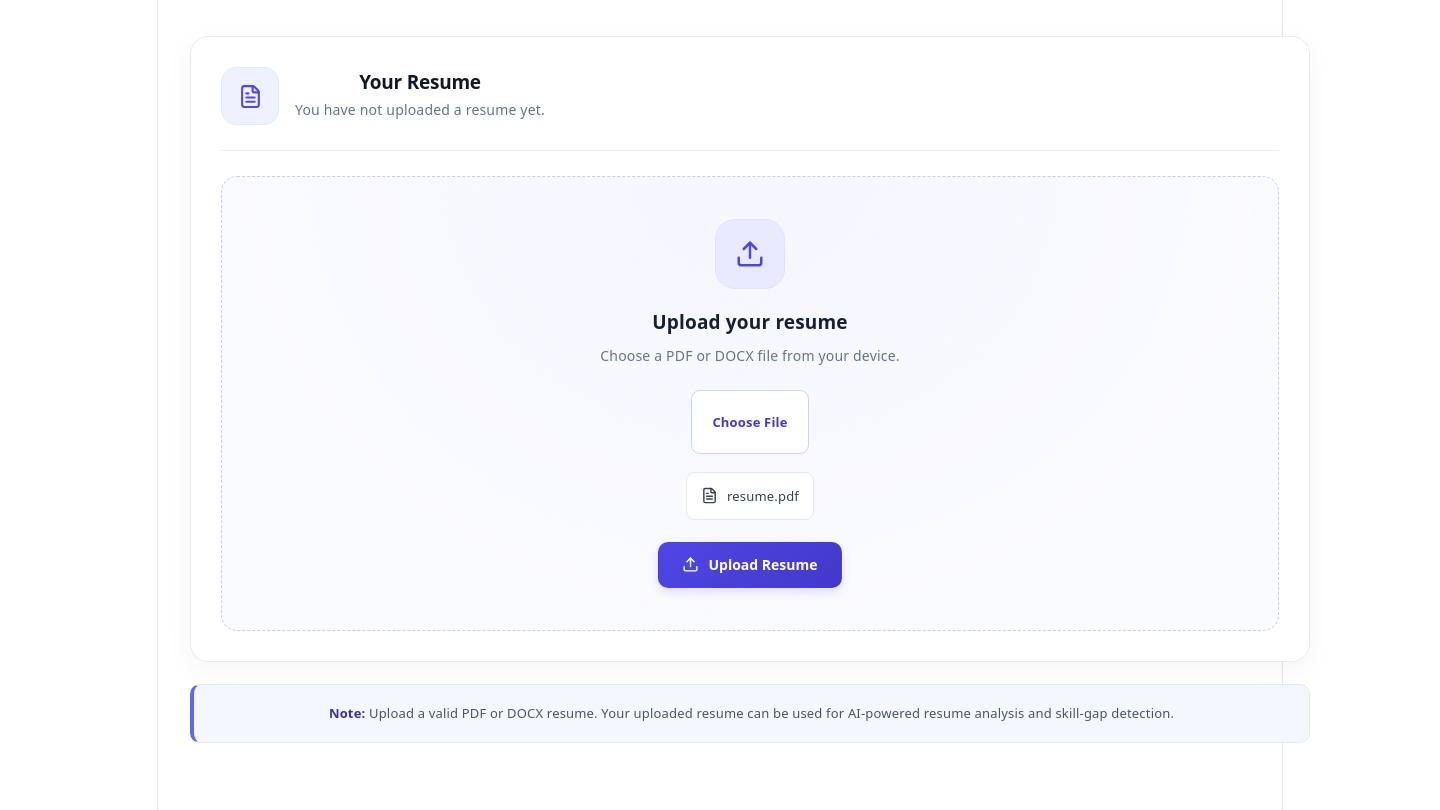
Test: ResumeManagement › shows an error when resume upload fails
The image size is (1440, 810).
Earlier steps of the test are not shown.
Click the button "Upload Resume". click: (750, 565)
box: [658,542,842,588]
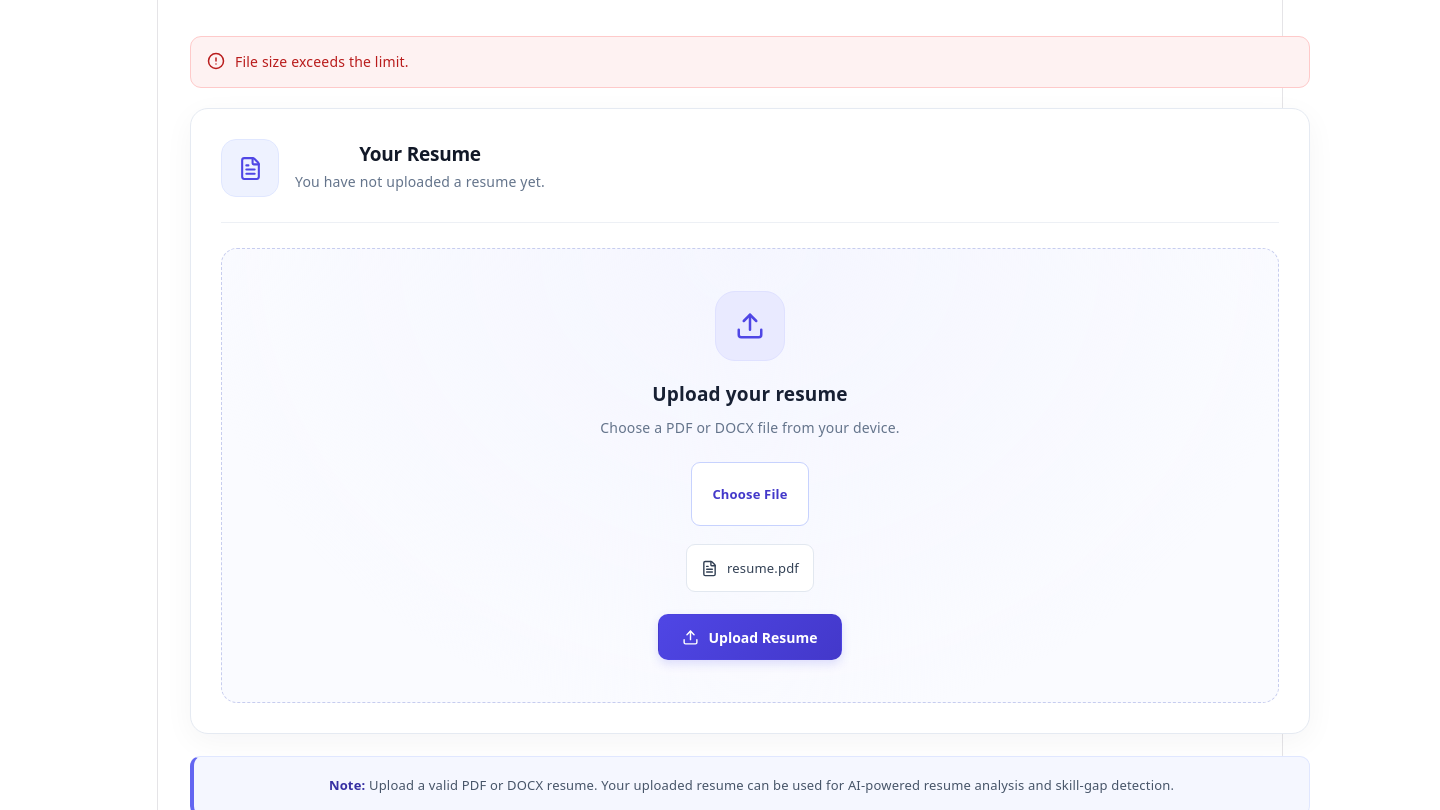
Now the text "File size exceeds the limit." is shown, box [235,51,409,73]
